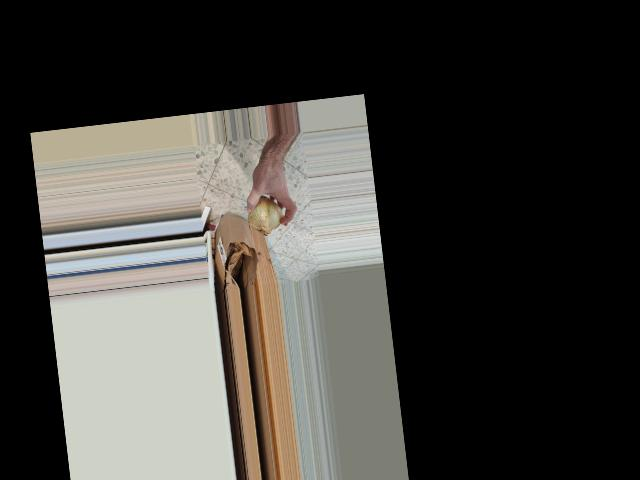onion: (243, 190, 286, 239)
